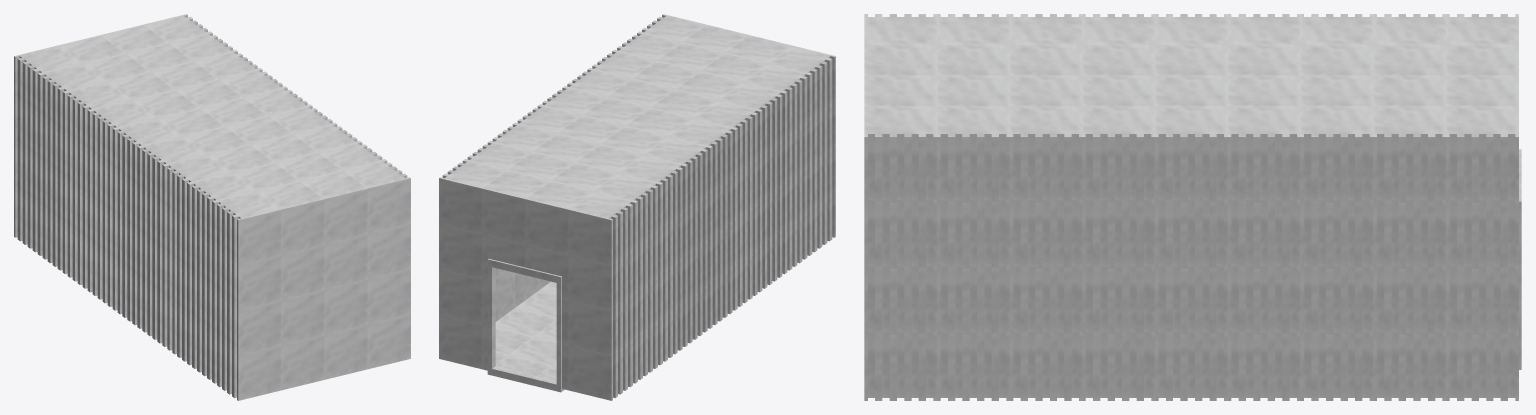
File: TempControl-Container.fbx
3 views of the same model, side by side, from view 1: azimuth 30°, elevation 25°; view 2: azimuth 150°, elevation 25°; view 3: azimuth 270°, elevation 25° (orthographic). The views are drawn at different scales.
Parts seen in each view (by area): view 1: node_id3; view 2: node_id3; view 3: node_id3.
Boxes of the visible parts, bbox=[...] form: node_id3: bbox=[14, 14, 410, 400]; node_id3: bbox=[439, 14, 835, 400]; node_id3: bbox=[864, 14, 1521, 400].
Size of the model in its own units: 0.5039 by 0.512 by 1.14.
1 material, 1 textured.
